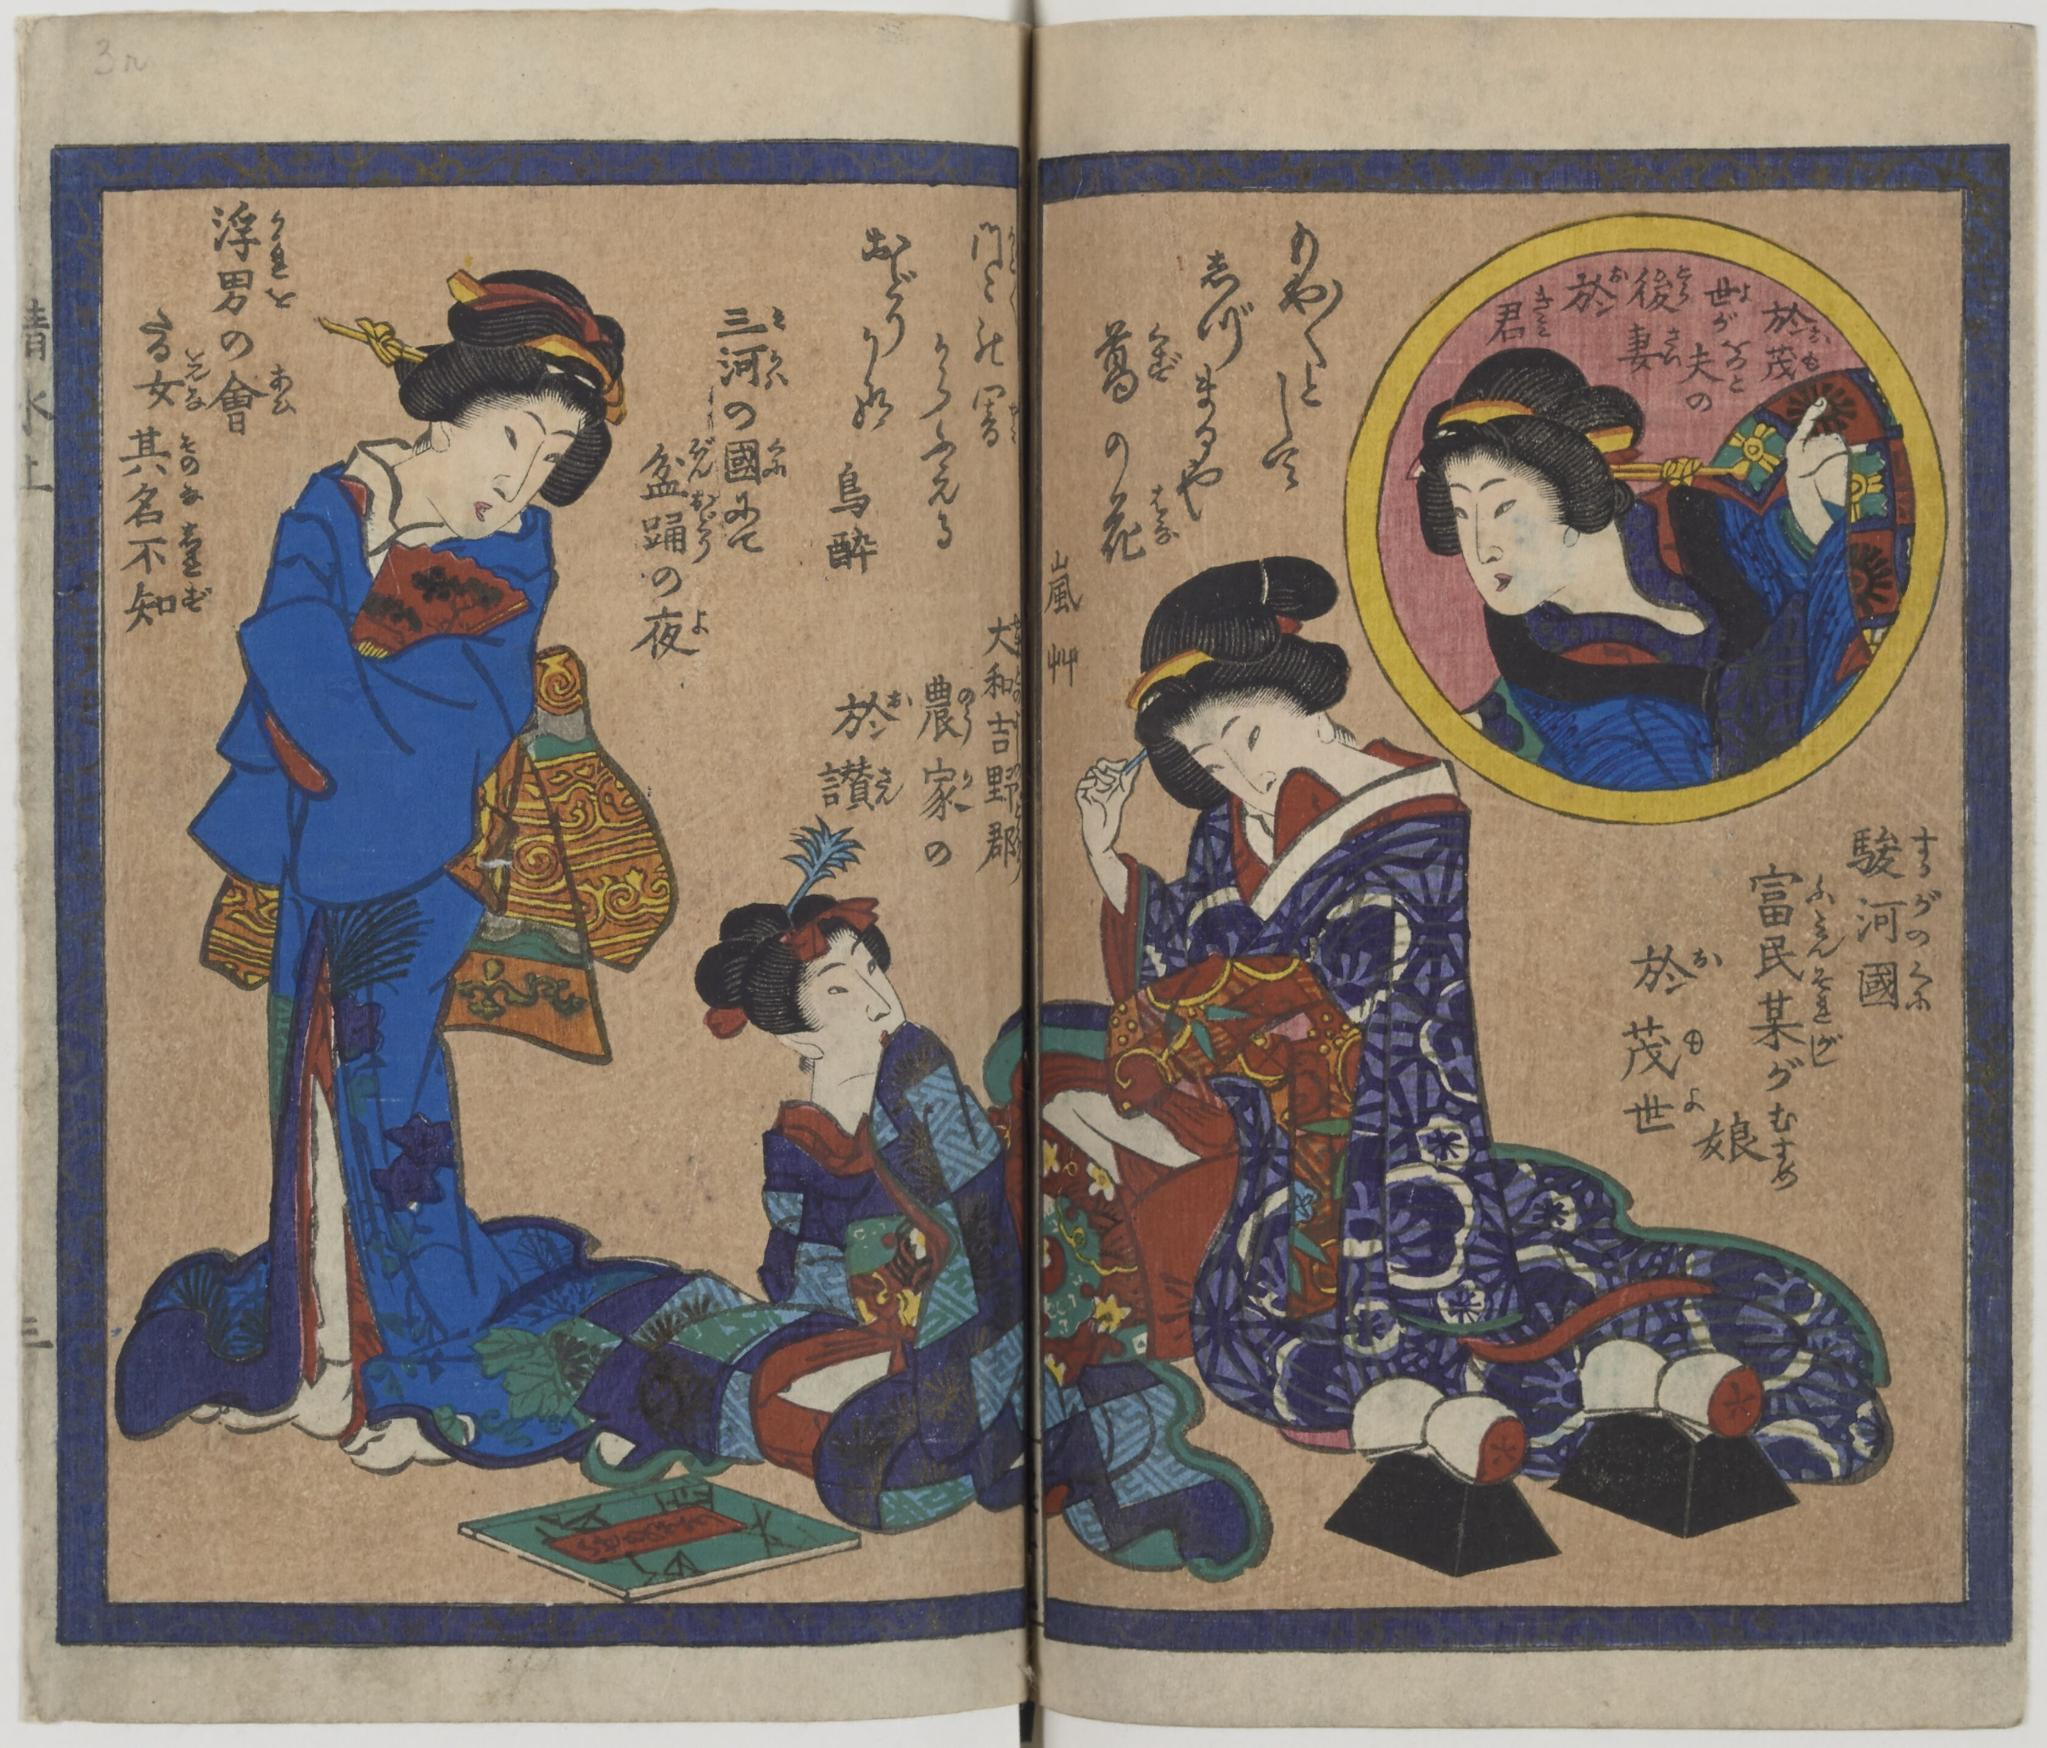MainZone-Character: (1690, 1099, 1808, 1200), (1742, 858, 1848, 962), (205, 194, 307, 286), (1092, 317, 1186, 409), (1752, 933, 1841, 1028), (1752, 988, 1851, 1070), (210, 357, 302, 444), (1097, 482, 1180, 569), (629, 487, 719, 567), (125, 342, 213, 420), (1619, 1013, 1714, 1084), (1628, 938, 1733, 1001), (962, 218, 1021, 326), (1848, 820, 1943, 884), (634, 432, 718, 503), (1853, 888, 1945, 952), (825, 685, 917, 749), (120, 577, 217, 638), (114, 519, 205, 579), (631, 603, 719, 664), (116, 423, 206, 482), (206, 267, 302, 321), (1853, 957, 1940, 1016), (818, 760, 908, 813), (709, 343, 797, 395), (1617, 1084, 1709, 1132), (919, 675, 979, 747), (1487, 284, 1563, 342), (118, 482, 206, 531), (969, 383, 1024, 454), (1683, 338, 1754, 392), (723, 435, 796, 487), (1565, 264, 1633, 317), (1629, 264, 1699, 314), (1759, 302, 1837, 345), (1621, 323, 1685, 371), (981, 820, 1024, 884), (981, 761, 1024, 819), (716, 303, 790, 336), (1761, 343, 1822, 383), (979, 610, 1026, 659), (981, 661, 1026, 704), (985, 709, 1026, 756), (1706, 276, 1756, 310)
MainZone-Ruby: (1768, 1101, 1806, 1195), (1810, 874, 1848, 959), (1146, 317, 1186, 388), (1908, 890, 1945, 950), (1149, 482, 1180, 550), (692, 491, 719, 564), (182, 345, 210, 418), (1905, 957, 1938, 1016), (267, 206, 293, 281), (1005, 222, 1023, 328), (1530, 283, 1560, 343), (269, 362, 298, 421), (1811, 966, 1839, 1027), (685, 437, 719, 486), (1808, 1032, 1851, 1070), (1912, 824, 1941, 879), (1721, 338, 1752, 390), (875, 763, 908, 812), (177, 522, 205, 579), (955, 687, 979, 746), (763, 437, 792, 486), (175, 432, 203, 479), (766, 349, 792, 392), (180, 583, 213, 616), (1692, 945, 1728, 973), (1683, 1023, 1709, 1061), (1662, 326, 1683, 373), (1676, 262, 1697, 309), (690, 605, 716, 640), (265, 284, 295, 314), (179, 480, 208, 510), (1005, 399, 1023, 447), (1681, 1084, 1707, 1115), (1011, 711, 1026, 758), (1009, 662, 1026, 704), (1012, 761, 1024, 819), (1014, 820, 1024, 886), (1011, 612, 1026, 655), (886, 687, 915, 709), (1608, 262, 1633, 286), (770, 305, 790, 333), (1808, 324, 1834, 345), (1803, 347, 1820, 373), (1740, 279, 1754, 305)
